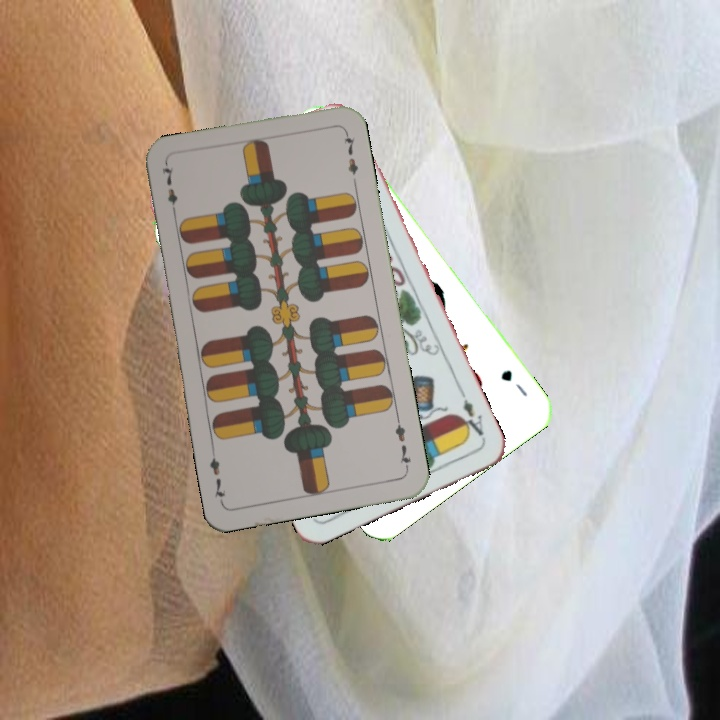E7: (391, 414, 414, 473), (158, 161, 180, 220)
EA: (455, 386, 487, 440)
GU: (497, 366, 531, 399)
